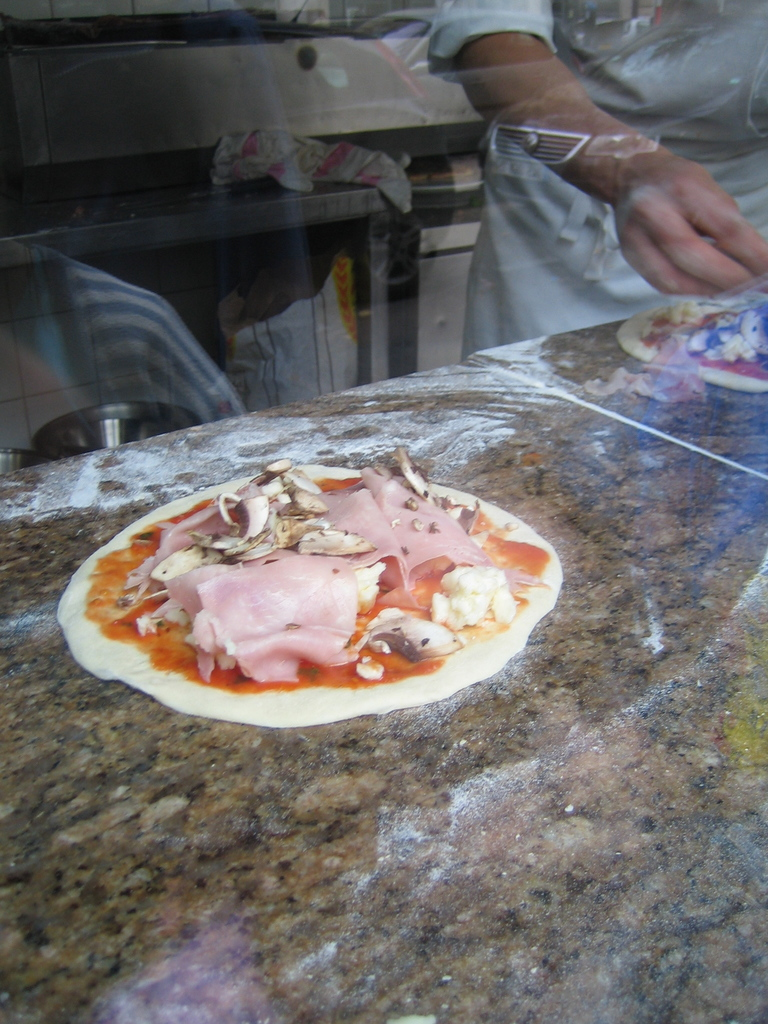Pizza: (63, 440, 558, 732), (611, 286, 767, 384)
